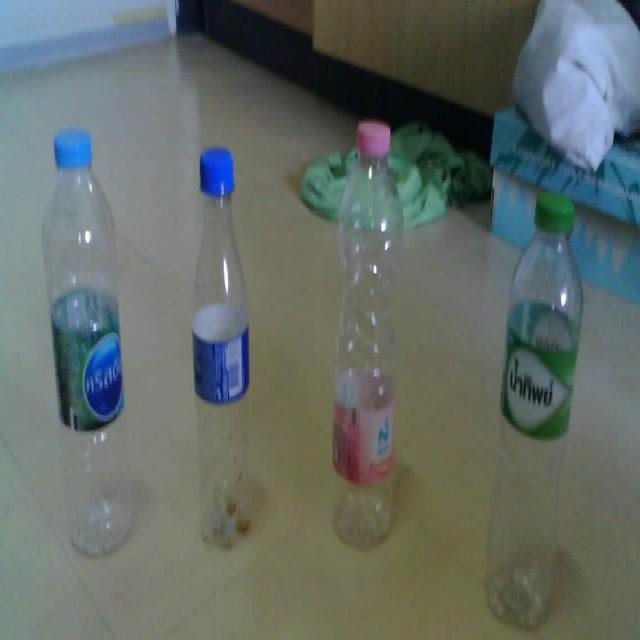empty: (488, 193, 582, 626), (42, 128, 133, 555), (332, 121, 403, 545), (192, 148, 250, 544)
